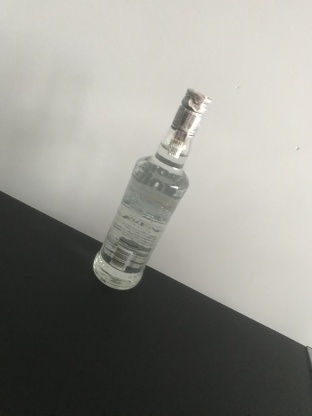nakretka: (169, 86, 213, 139)
